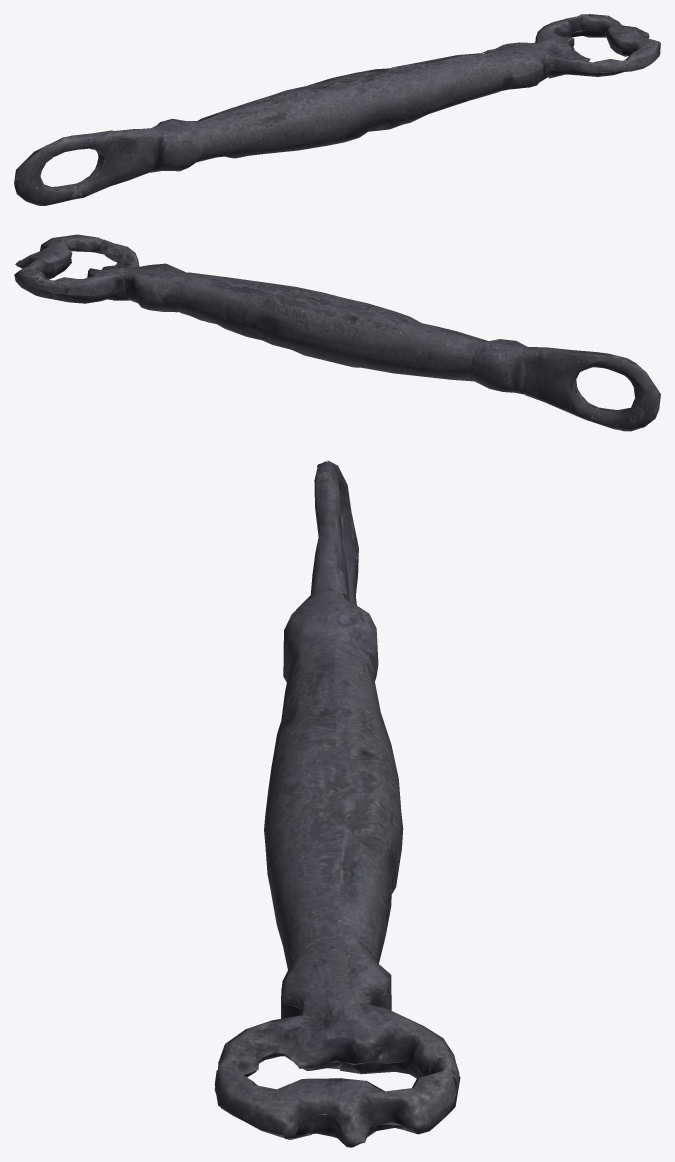
File: tower_key.glb
3 renders of one model, top to bottom at view 1: azimuth 30°, elevation 25°; view 2: azimuth 150°, elevation 25°; view 3: azimuth 270°, elevation 25°, orthographic. The views are drawn at different scales.
Visible parts, largest first — view 1: TowerKey; view 2: TowerKey; view 3: TowerKey.
Boxes of the visible parts, x1,y1,x2,y2 form: TowerKey: [14, 14, 660, 205]; TowerKey: [14, 234, 660, 431]; TowerKey: [214, 460, 460, 1147].
Size of the model in its own units: 0.1301 by 0.0136 by 0.0217.
1 material, 1 textured.
